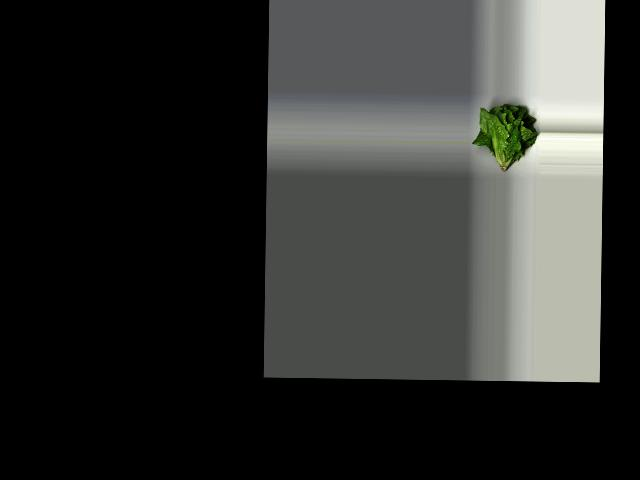lettuce: (472, 102, 538, 172)
